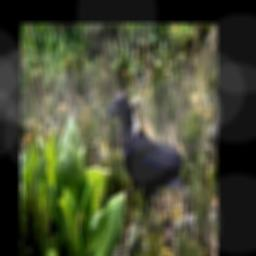Crow: (106, 89, 184, 223)
